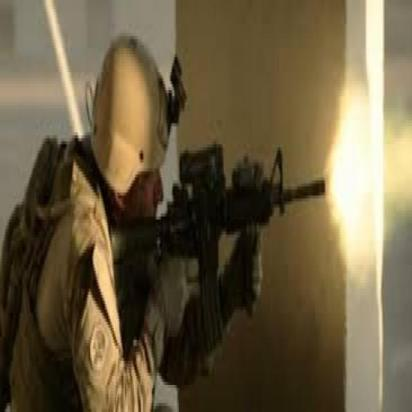Gun: (112, 148, 330, 372)
